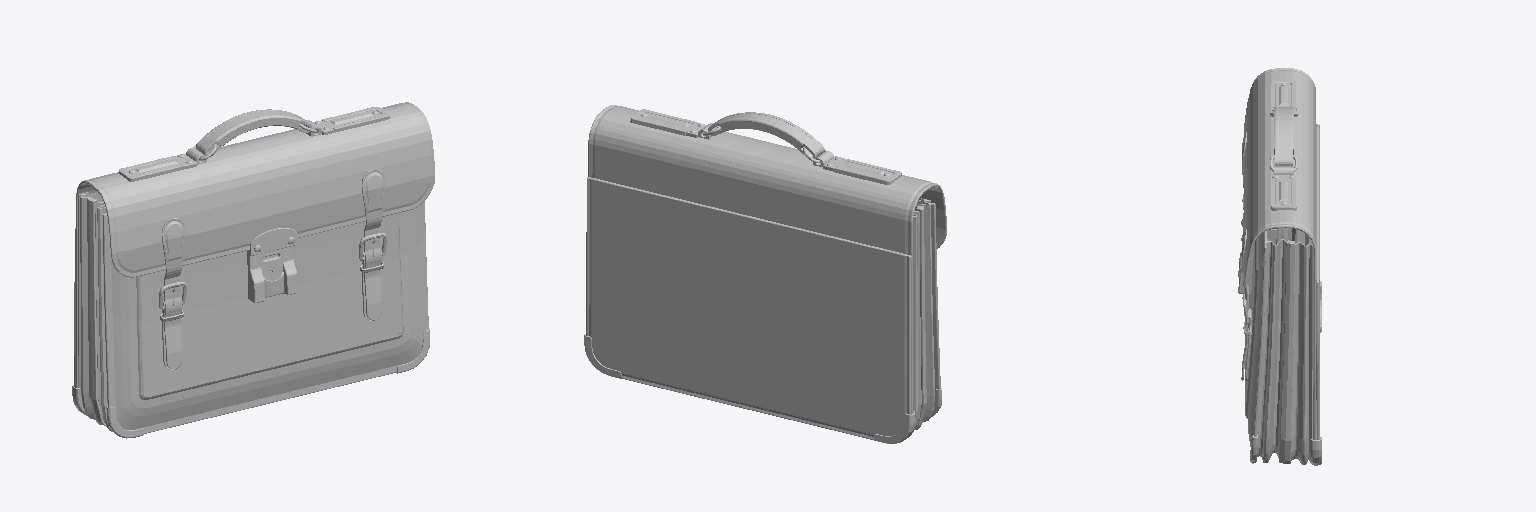
The model's file is Breifcase.obj.
3 renders of one model, left to right at view 1: azimuth 30°, elevation 25°; view 2: azimuth 150°, elevation 25°; view 3: azimuth 270°, elevation 25°, orthographic.
Visible parts, largest first — view 1: Front_Suitcase, Cover, Straps1, Middle_Suitcase, Briefcase_Lock, Handle_Lock_Piece, Middle_Extrusions, LeatherPart_Handle, Accesories, Briefcase_Buckle, Handle_Metal1; view 2: Back, Cover, Middle_Suitcase, Handle_Lock_Piece, LeatherPart_Handle, Middle_Extrusions, Front_Suitcase, Back_Accesories, Handle_Metal1; view 3: Middle_Suitcase, Cover, Front_Suitcase, Middle_Extrusions, Handle_Lock_Piece, Back, Handle_Metal1.
Part boxes in pixels (x1,y1,x2,y2): Front_Suitcase: (103, 201, 428, 433); Cover: (76, 102, 434, 387); Straps1: (162, 169, 385, 368); Middle_Suitcase: (78, 192, 111, 431); Briefcase_Lock: (247, 246, 297, 302); Handle_Lock_Piece: (118, 107, 389, 181); Middle_Extrusions: (87, 198, 105, 425); LeatherPart_Handle: (207, 109, 300, 147); Accesories: (106, 329, 429, 438); Briefcase_Buckle: (249, 228, 297, 255); Handle_Metal1: (198, 111, 307, 154); Back: (586, 177, 911, 439); Cover: (588, 105, 946, 413); Middle_Suitcase: (911, 198, 934, 434); Handle_Lock_Piece: (630, 109, 901, 184); LeatherPart_Handle: (719, 112, 812, 150); Middle_Extrusions: (915, 206, 926, 429); Front_Suitcase: (917, 200, 940, 389); Back_Accesories: (584, 334, 914, 443); Handle_Metal1: (712, 114, 821, 156); Middle_Suitcase: (1257, 228, 1313, 464); Cover: (1244, 68, 1316, 439); Front_Suitcase: (1245, 231, 1266, 446); Middle_Extrusions: (1279, 240, 1294, 463); Handle_Lock_Piece: (1271, 80, 1296, 210); Back: (1316, 124, 1319, 439); Handle_Metal1: (1279, 107, 1288, 165).
Bounding box in the file's own units: 0.4083 × 0.3322 × 0.0896.